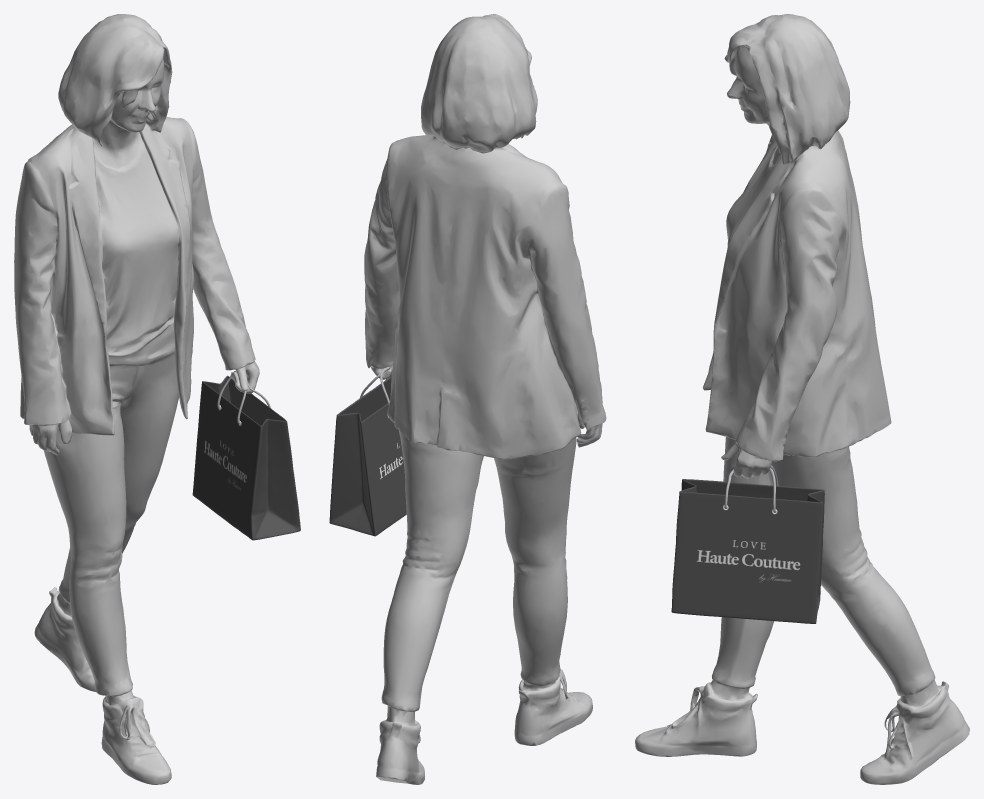
Rendered from Humano_04Diverse_17_30K.fbx.
3 views of the same model, side by side, from view 1: azimuth 30°, elevation 25°; view 2: azimuth 150°, elevation 25°; view 3: azimuth 270°, elevation 25° (orthographic). The views are drawn at different scales.
Visible parts, largest first — view 1: Humano_04Diverse_17_30K.001, Humano_03Elegant_04_Bag_100K_001; view 2: Humano_04Diverse_17_30K.001, Humano_03Elegant_04_Bag_100K_001; view 3: Humano_04Diverse_17_30K.001, Humano_03Elegant_04_Bag_100K_001.
Boxes of the visible parts, x1,y1,x2,y2 form: Humano_04Diverse_17_30K.001: (14, 14, 259, 784); Humano_03Elegant_04_Bag_100K_001: (192, 371, 300, 540); Humano_04Diverse_17_30K.001: (364, 14, 606, 784); Humano_03Elegant_04_Bag_100K_001: (329, 367, 406, 536); Humano_04Diverse_17_30K.001: (635, 14, 969, 784); Humano_03Elegant_04_Bag_100K_001: (671, 464, 824, 623).
Size of the model in its own units: 64.43 by 180 by 72.9.
